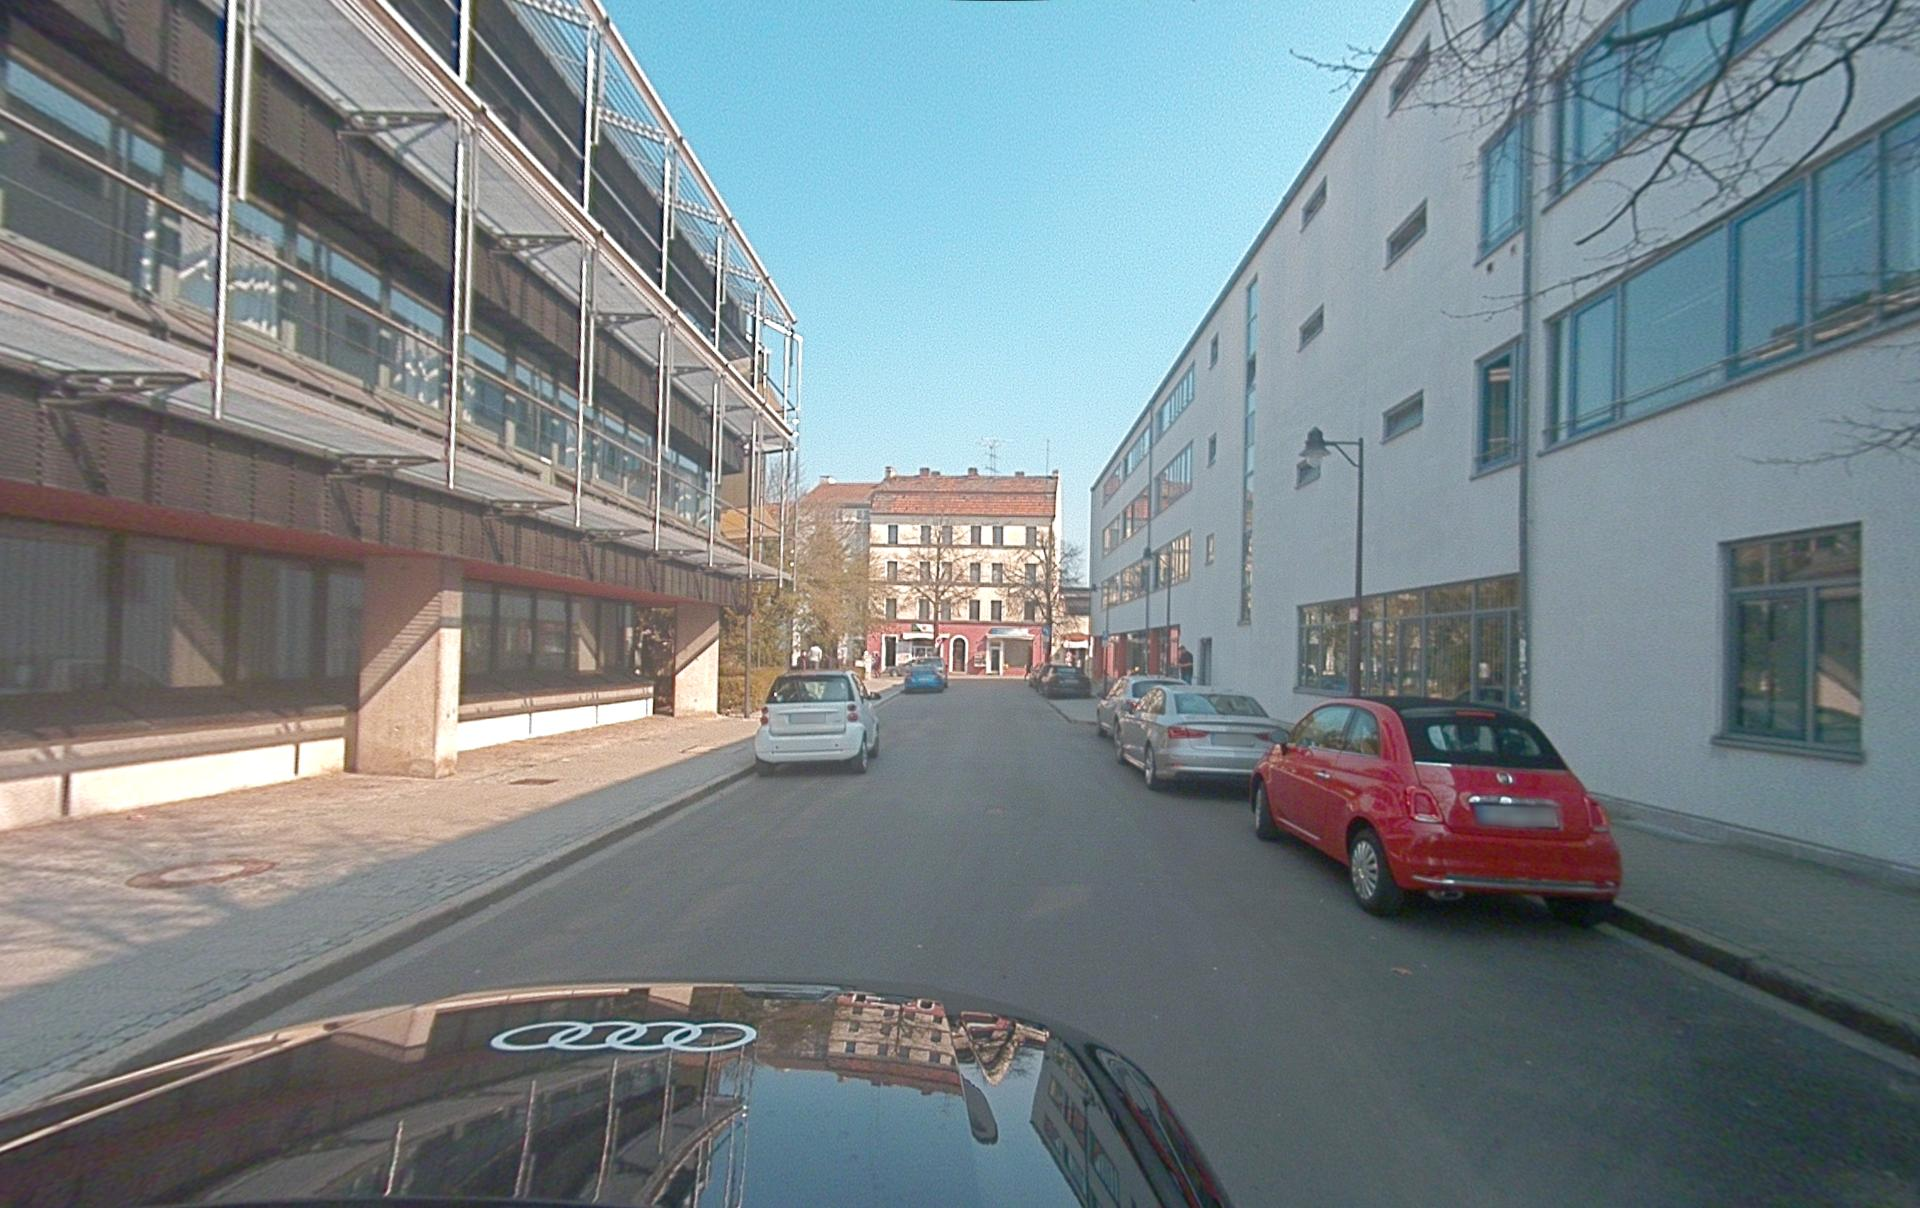car: (1249, 696, 1623, 921), (1116, 686, 1294, 791), (754, 670, 881, 773), (1096, 675, 1188, 740), (1031, 664, 1091, 698), (904, 662, 947, 692)
